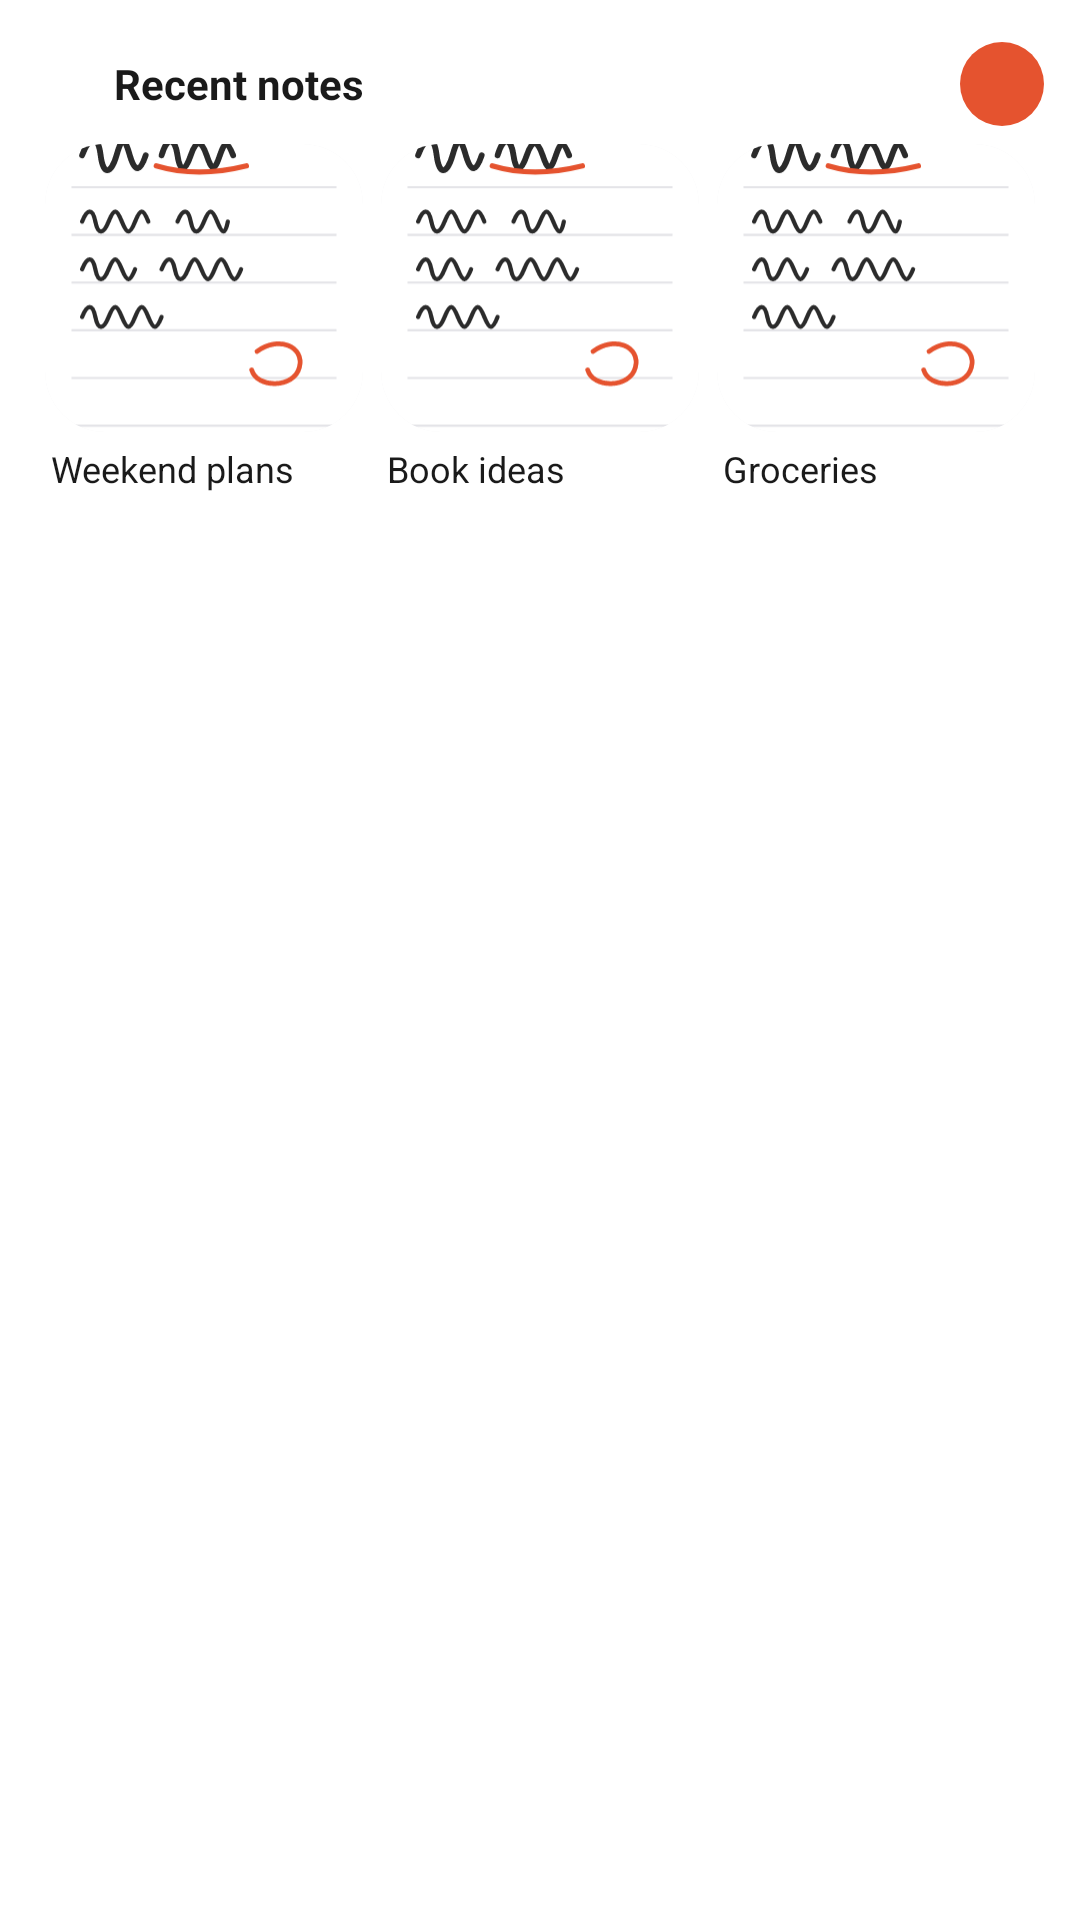

Icon click points for this 1080*1920 phone screenshot, format (x,y):
widget pv page: (204,285), (540,285), (876,285)
